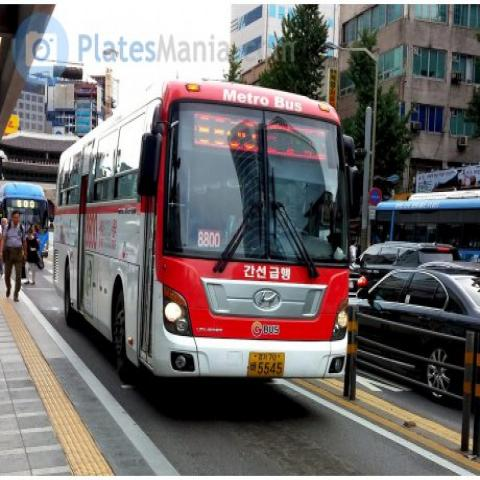LP: (242, 345, 291, 385)
